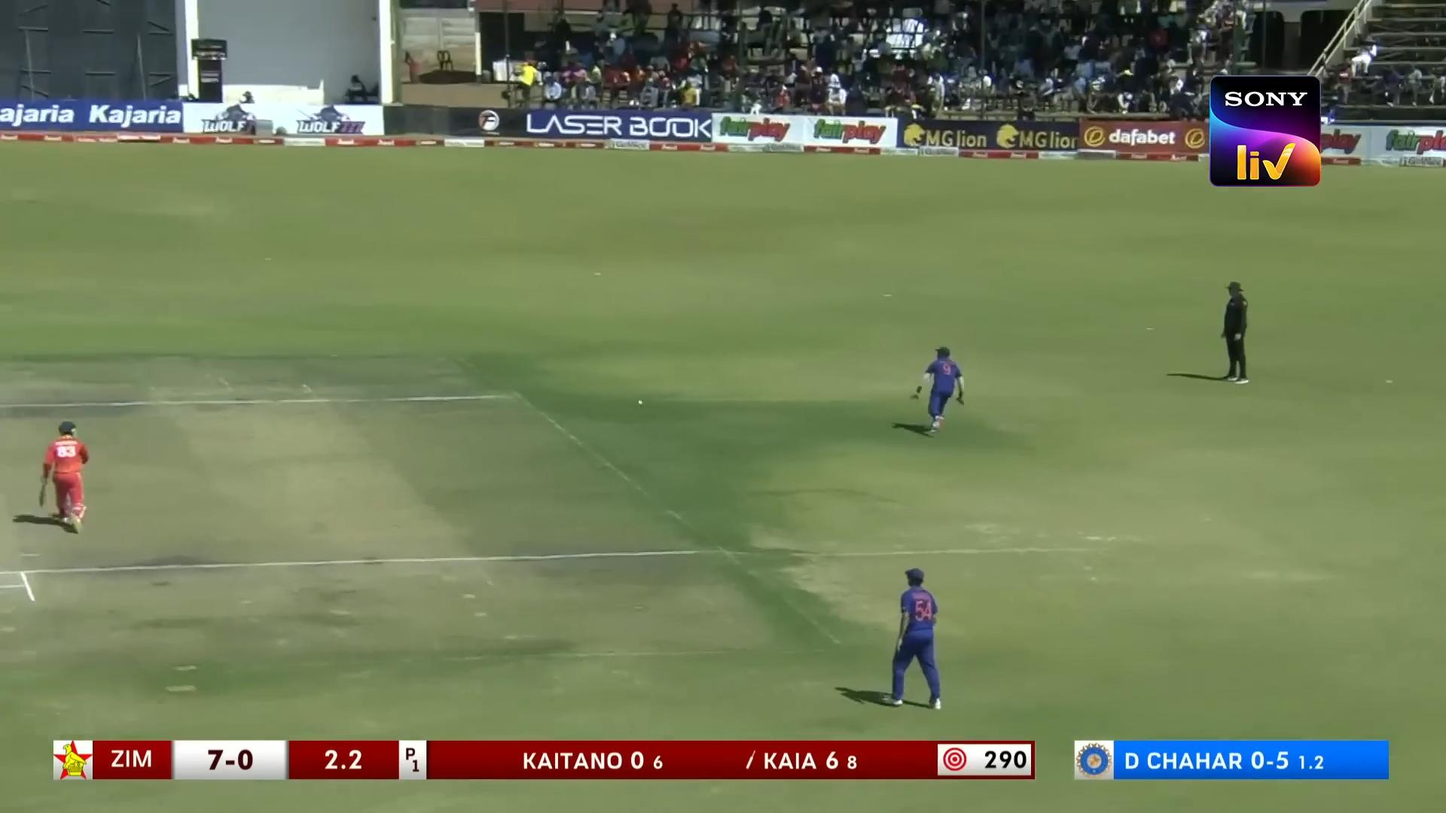batsman: (38, 421, 92, 535)
